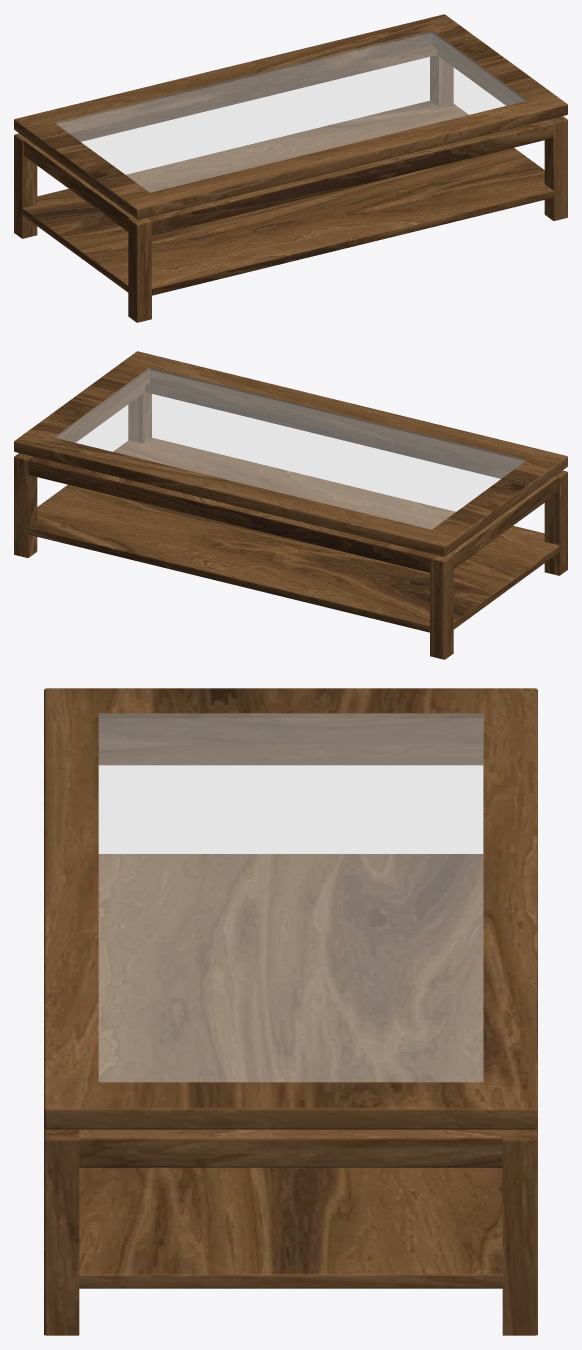
3 views of the same model, one above another, from view 1: azimuth 30°, elevation 25°; view 2: azimuth 150°, elevation 25°; view 3: azimuth 270°, elevation 25° (orthographic). The views are drawn at different scales.
Visible parts, largest first — view 1: Plane.100_0, Plane.091_1; view 2: Plane.100_0, Plane.091_1; view 3: Plane.100_0, Plane.091_1.
Part boxes in pixels (bbox=[...]): Plane.100_0: bbox=[14, 14, 567, 322]; Plane.091_1: bbox=[55, 30, 527, 192]; Plane.100_0: bbox=[14, 351, 567, 659]; Plane.091_1: bbox=[54, 367, 526, 529]; Plane.100_0: bbox=[44, 688, 537, 1335]; Plane.091_1: bbox=[99, 713, 483, 1081].
Size of the model in its own units: 1.57 by 0.3945 by 0.7781.
Materials: 2 (1 with a texture image).
